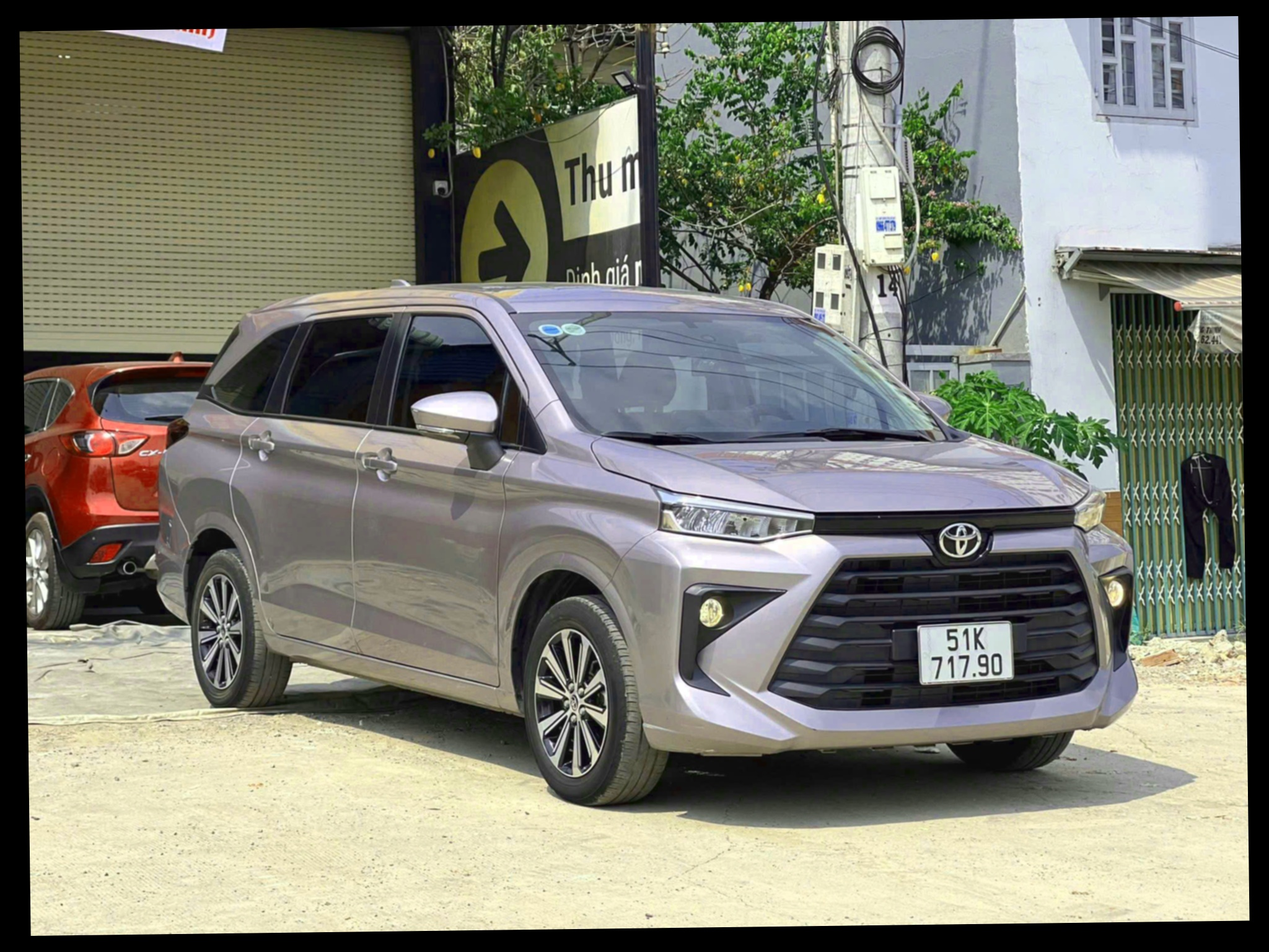Bien-so: (891, 639, 999, 716)
